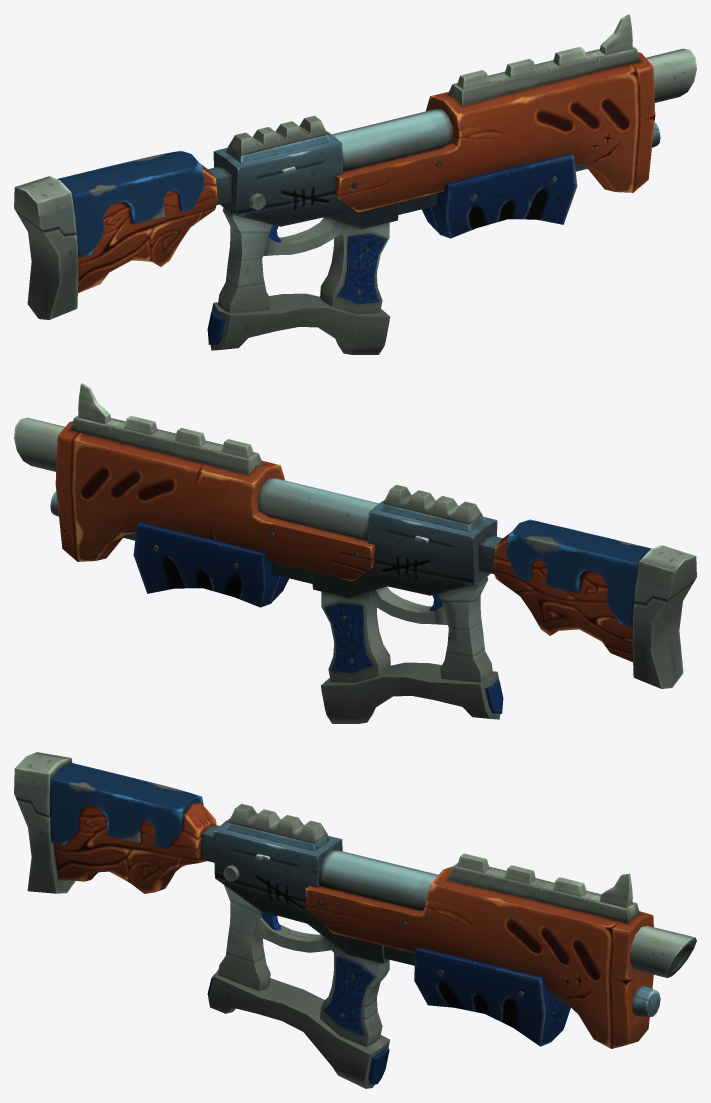
File: shotgun_Shotgun_lenta_forte.glb
The picture shows the model from 3 angles, top to bottom: view 1: azimuth 30°, elevation 25°; view 2: azimuth 150°, elevation 25°; view 3: azimuth 330°, elevation 25°; orthographic projection.
Parts seen in each view (by area): view 1: Riffle; view 2: Riffle; view 3: Riffle.
Boxes of the visible parts, box(x1,y1,x2,y2) form: Riffle: box(14, 14, 696, 354); Riffle: box(14, 383, 696, 723); Riffle: box(14, 752, 696, 1088).
Size of the model in its own units: 4.42 by 1.76 by 0.415.
Materials: 1 (1 with a texture image).
